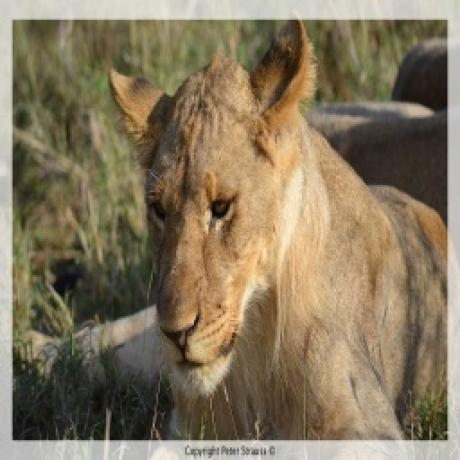Lion: (107, 21, 448, 438)
